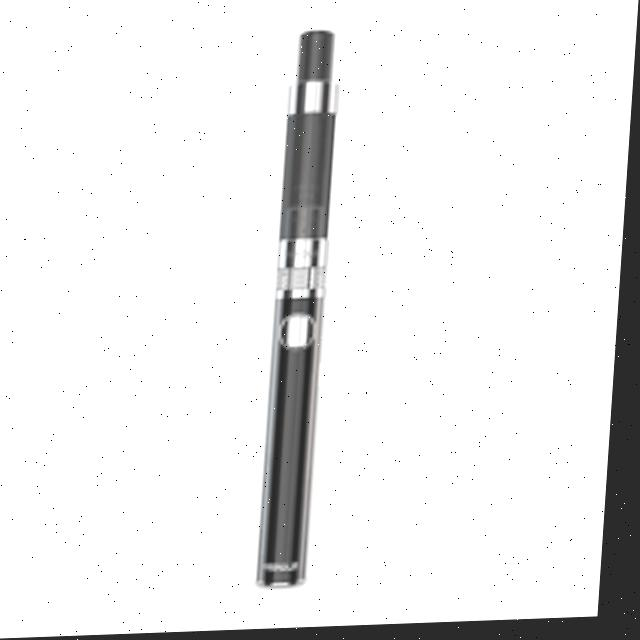vape: (263, 31, 346, 590)
